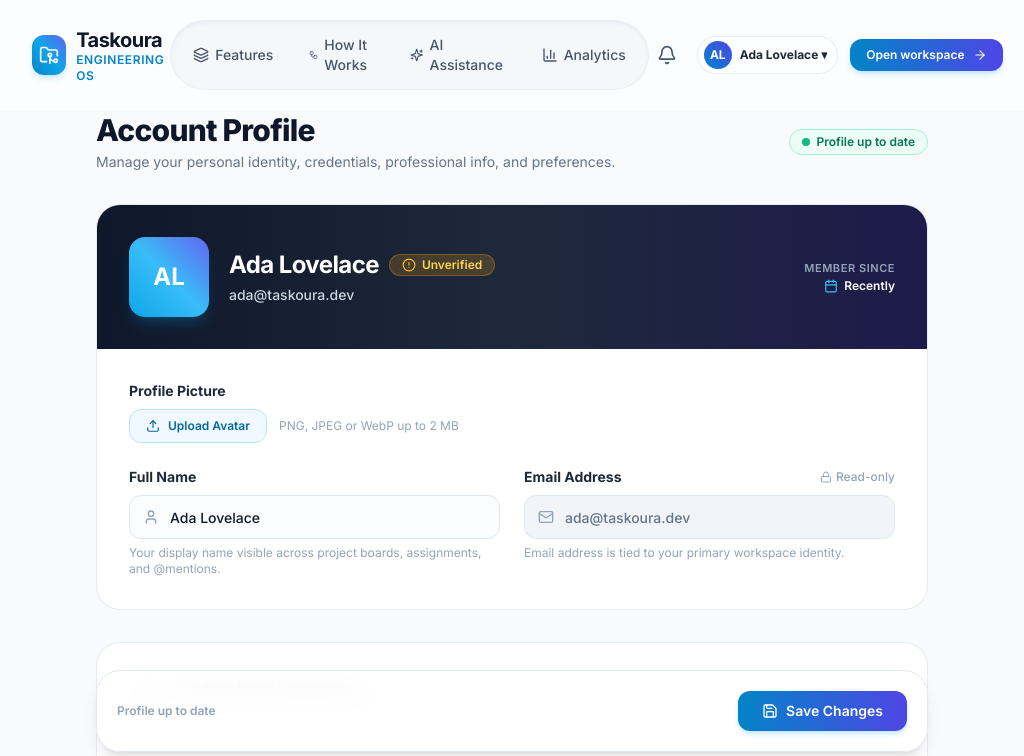
Test case: MODULE F16: Profile and Password Reset › ProfilePage: Display, Edit, and Immediate Topbar/Storage Update › Name update immediately refreshes the Topbar and localStorage
Expected: the text with test id "topbar-user-name" shows "Ada Lovelace", 740,47 -> 827,62
# Edit name
Replace the text in the field with test id "input-profile-name" with "Ada Augusta King": (314, 517) 129,495 -> 500,539
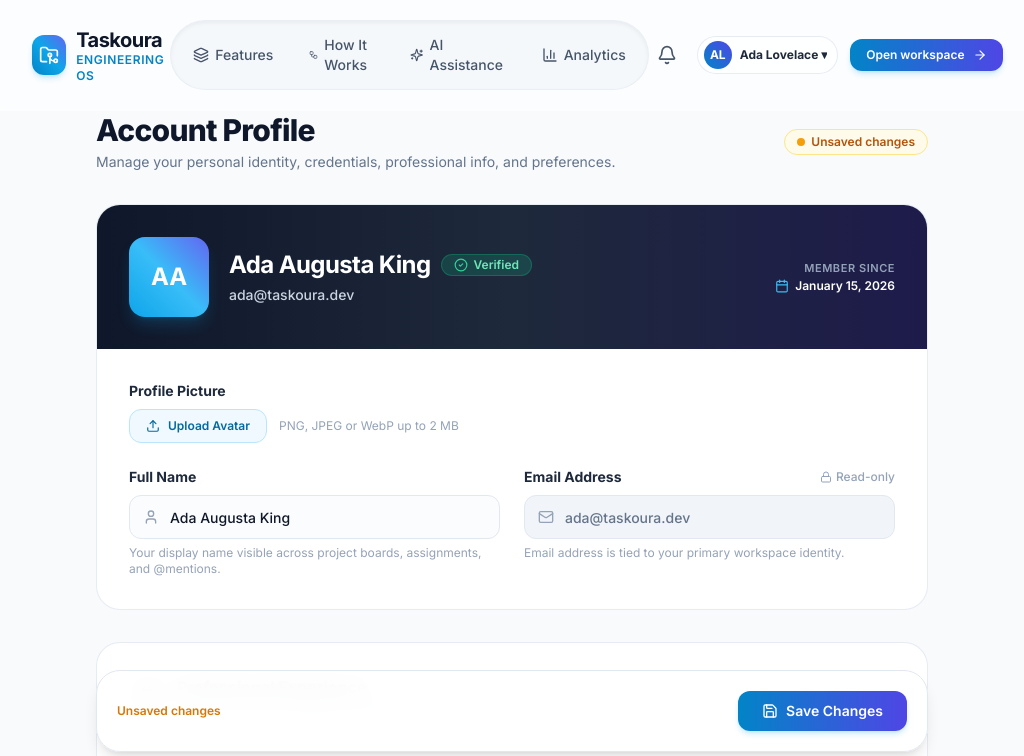
Click the button with test id "btn-save-profile": (823, 711) 738,691 -> 907,731
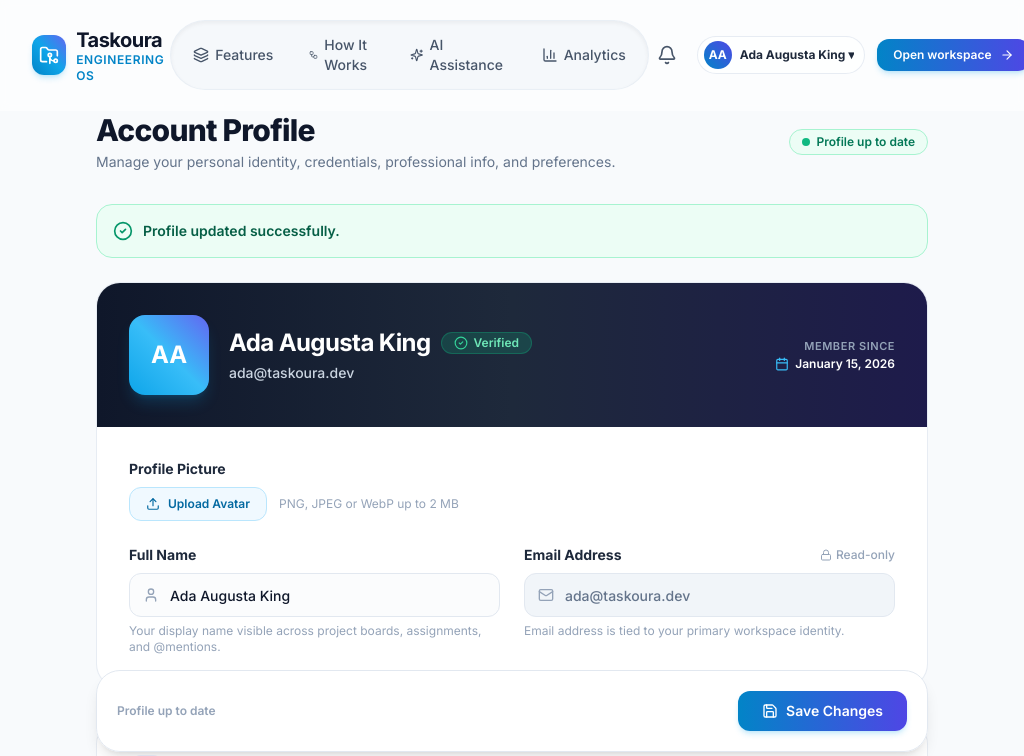
Expected: the heading "Ada Augusta King" is shown, 229,327 -> 430,359
Expected: the element with test id "profile-success-msg" reads "Profile updated successfully.", 143,222 -> 340,239
Expected: the text with test id "topbar-user-name" shows "Ada Augusta King", 740,47 -> 854,62
